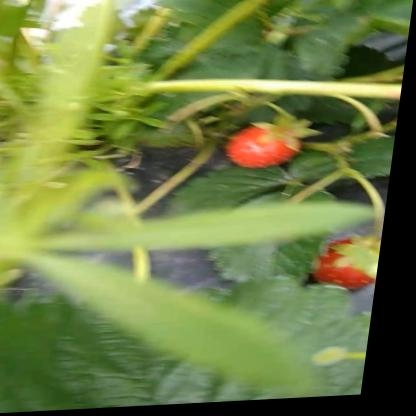ripe: (224, 122, 314, 175), (320, 238, 389, 298)
